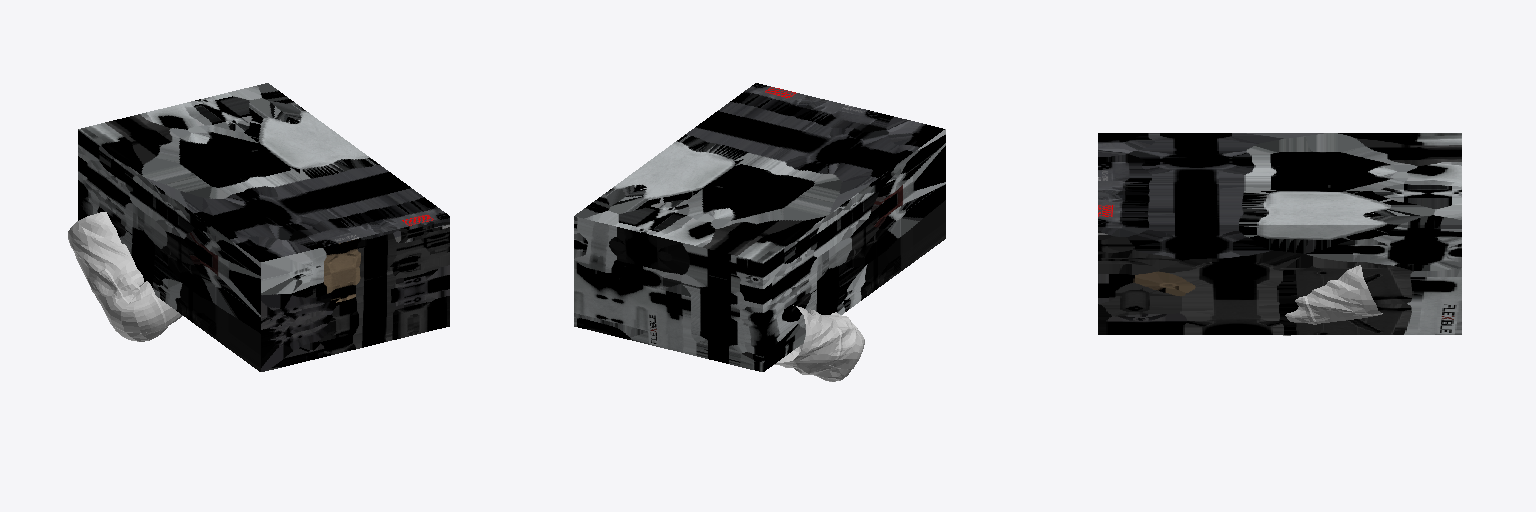
The picture shows the model from 3 angles: view 1: azimuth 30°, elevation 25°; view 2: azimuth 150°, elevation 25°; view 3: azimuth 270°, elevation 25°; orthographic projection.
Parts seen in each view (by area): view 1: Cube, sleeve; view 2: Cube, sleeve; view 3: Cube, sleeve.
Boxes of the visible parts, <box> form: Cube: <box>78,83,449,371</box>; sleeve: <box>68,212,182,341</box>; Cube: <box>574,83,945,371</box>; sleeve: <box>774,305,864,381</box>; Cube: <box>1098,133,1461,334</box>; sleeve: <box>1283,265,1382,335</box>.
Bounding box in the file's own units: 22.89 × 14.77 × 30.
Materials: 3 (2 with a texture image).